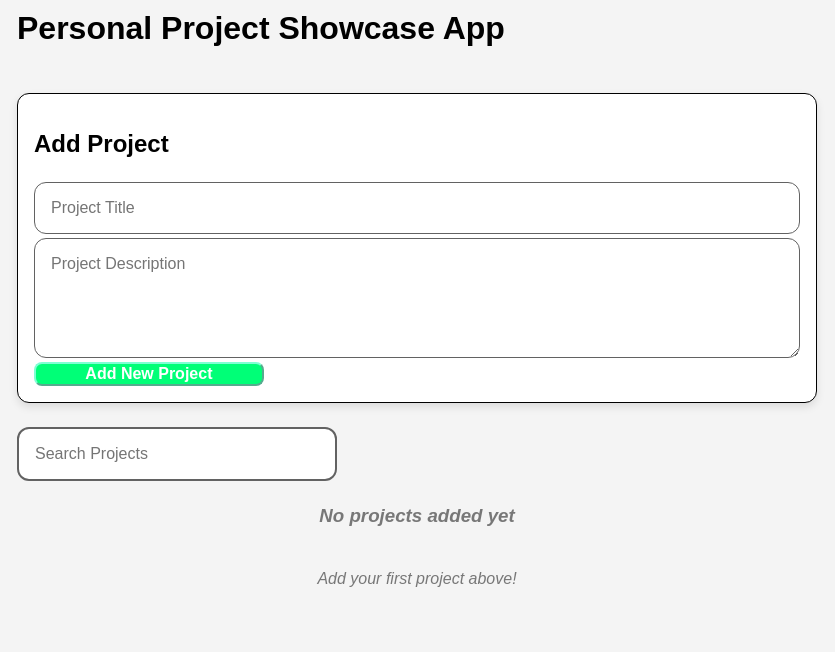
Test: adds a new project
The image size is (835, 652).
Type "React Lab" into the field with placeholder "Project Title" at (417,208), box [34,182,800,234]
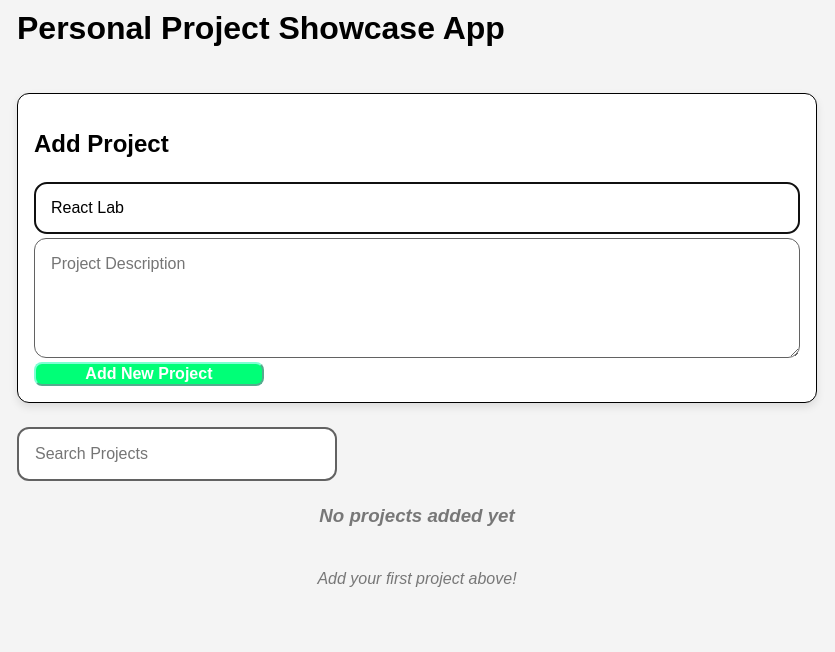
Type "My first project" into the text box with placeholder "Project Description" at (417,298), box [34,238,800,358]
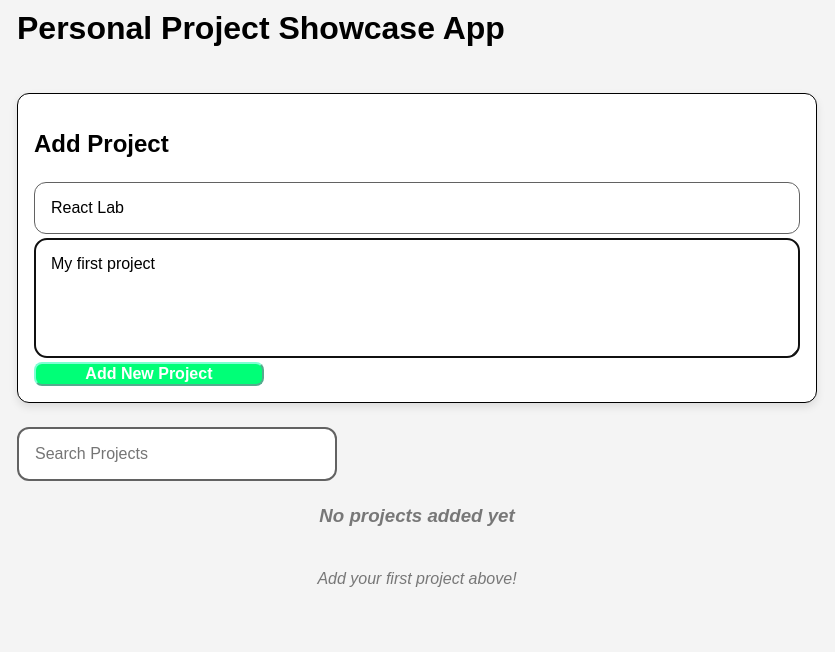
Click the button "Add New Project" at (149,374), box [34,362,264,386]
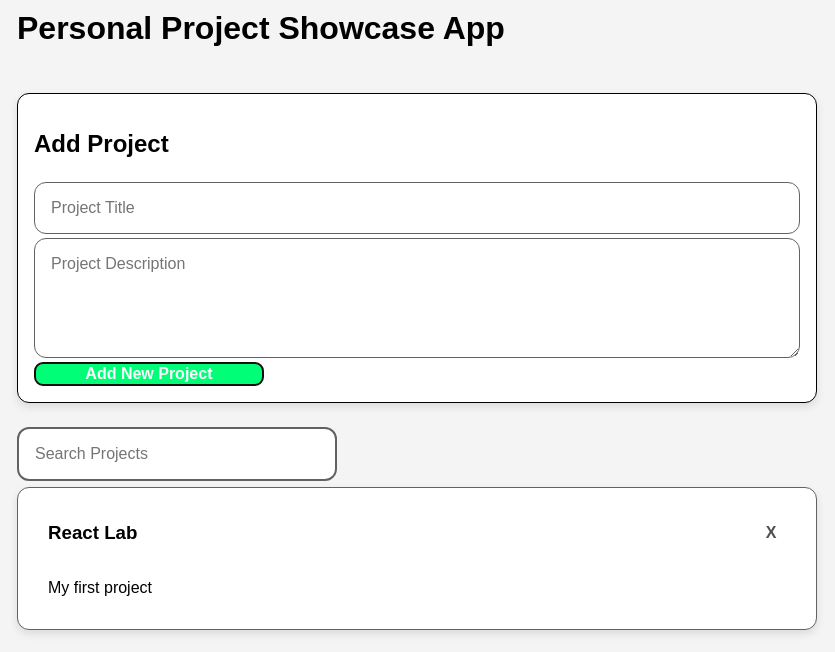
Result: the heading "React Lab" is shown at [48,522,137,544]
Result: the text "My first project" is shown at [48,579,152,596]
